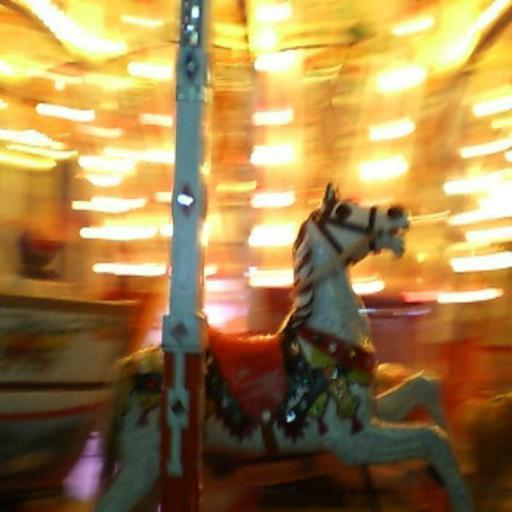horse: (93, 178, 474, 510)
